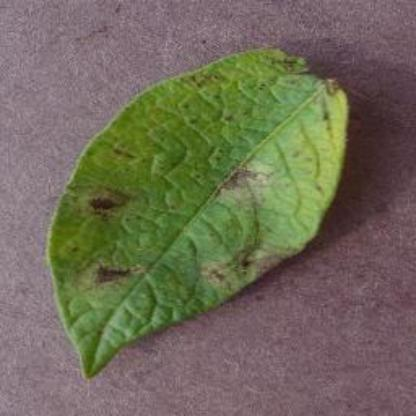Late-Blight: (45, 46, 359, 376)
